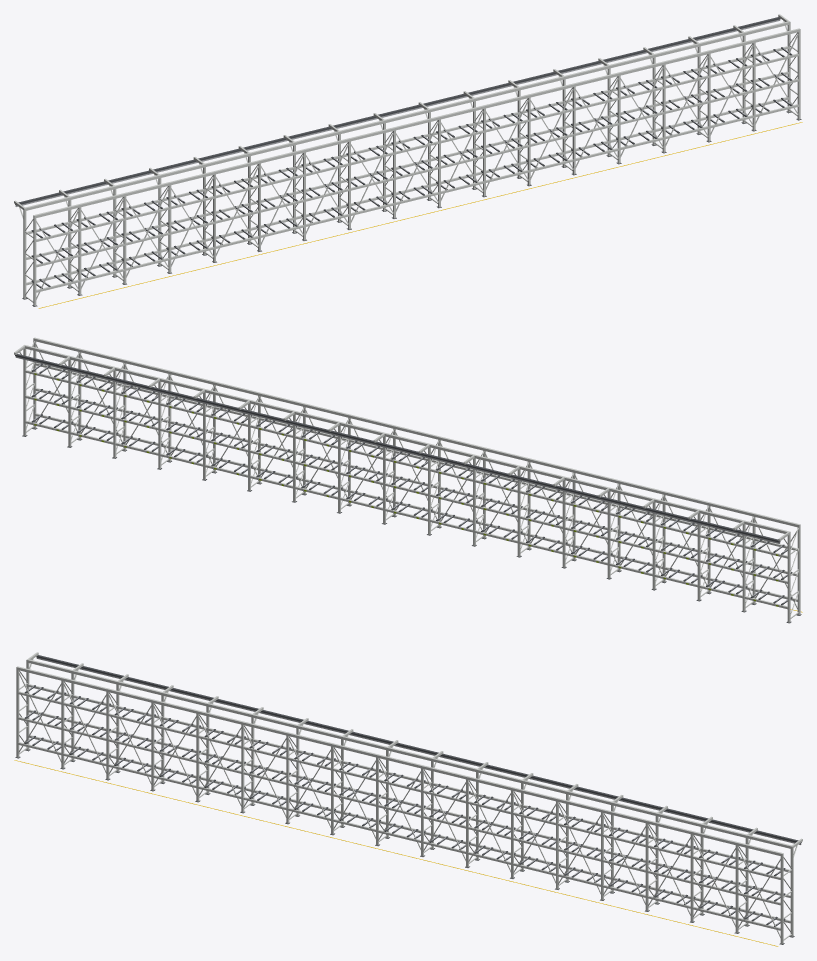
The model's file is pallet_rack_3L_34S.glb.
The picture shows the model from 3 angles, top to bottom: view 1: azimuth 30°, elevation 25°; view 2: azimuth 150°, elevation 25°; view 3: azimuth 330°, elevation 25°; orthographic projection.
Visible parts, largest first — view 1: rack_frame__truss_white, rack_frame__steel_dark, rack_frame__steel, rack_frame__yellow; view 2: rack_frame__truss_white, rack_frame__steel_dark, rack_frame__steel, rack_frame__lime; view 3: rack_frame__truss_white, rack_frame__steel_dark, rack_frame__steel, rack_frame__yellow.
Part boxes in pixels (left/top/right/bottom): rack_frame__truss_white: left=14, top=14, right=800, bottom=306; rack_frame__steel_dark: left=15, top=17, right=801, bottom=306; rack_frame__steel: left=15, top=19, right=789, bottom=286; rack_frame__yellow: left=38, top=122, right=802, bottom=308; rack_frame__truss_white: left=14, top=337, right=800, bottom=622; rack_frame__steel_dark: left=15, top=354, right=801, bottom=623; rack_frame__steel: left=15, top=356, right=787, bottom=602; rack_frame__lime: left=34, top=373, right=778, bottom=606; rack_frame__truss_white: left=16, top=652, right=802, bottom=944; rack_frame__steel_dark: left=15, top=655, right=801, bottom=944; rack_frame__steel: left=27, top=657, right=801, bottom=924; rack_frame__yellow: left=14, top=760, right=778, bottom=946.
Size of the model in its own units: 44.4 by 5 by 2.4.
